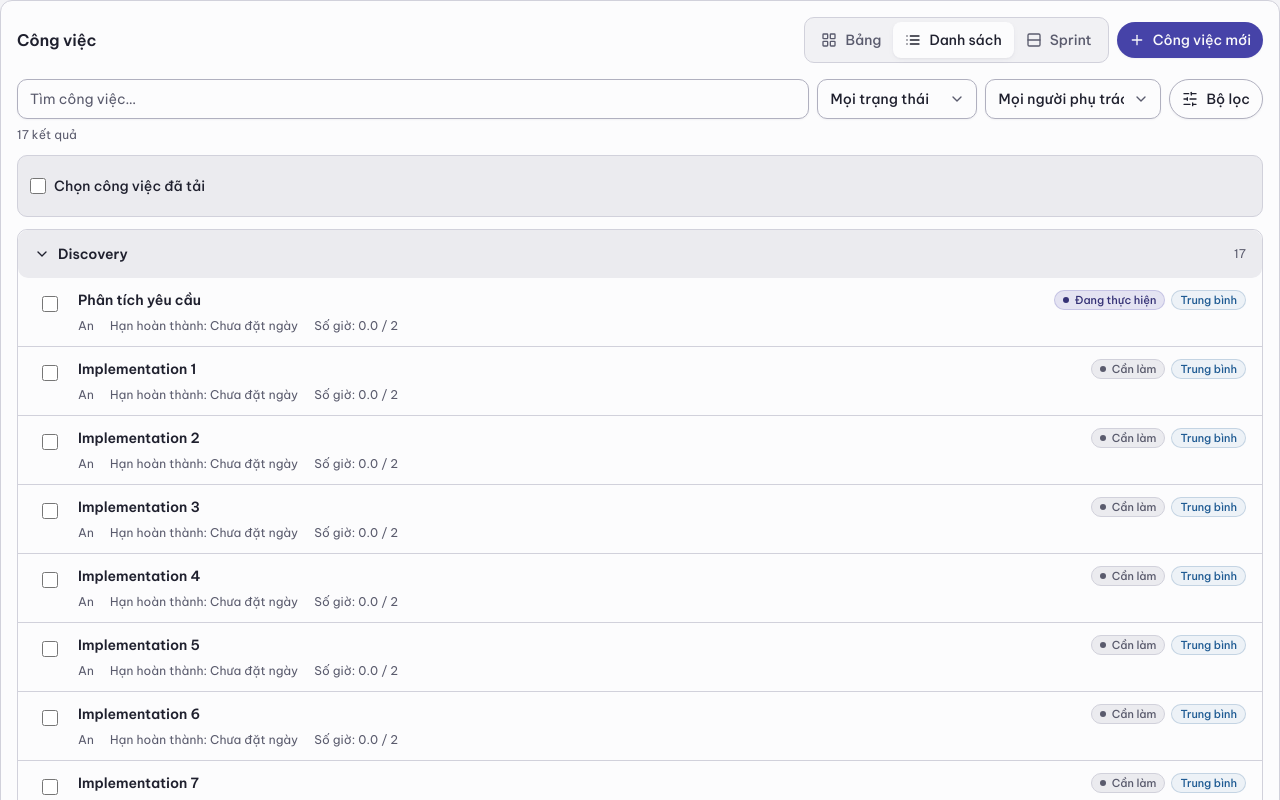
Scenario: task list interactions › opens localized detail with a fixed external save footer (vi)
Click the button "Phân tích yêu cầu".
click(139, 300)  # box [78, 290, 201, 310]
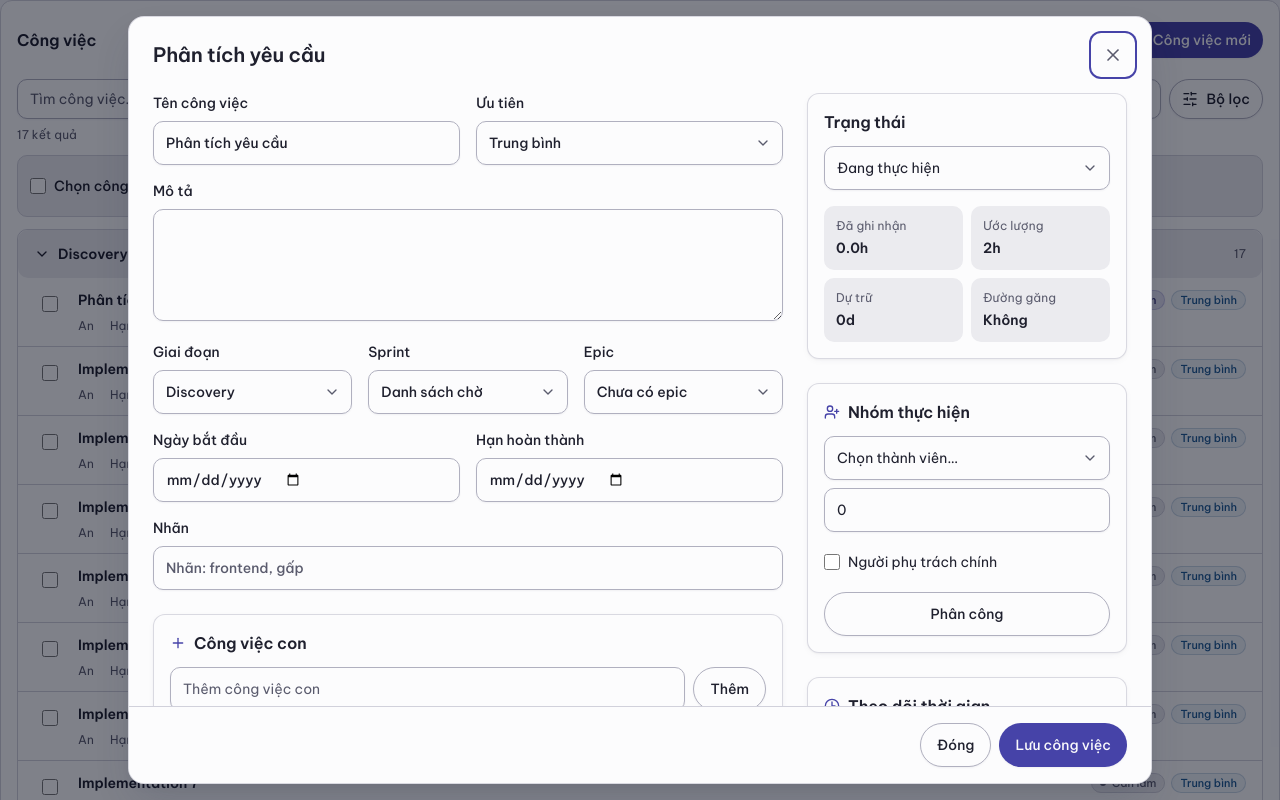
Click the button "Lưu công việc".
click(1063, 745)  # box [999, 723, 1127, 767]
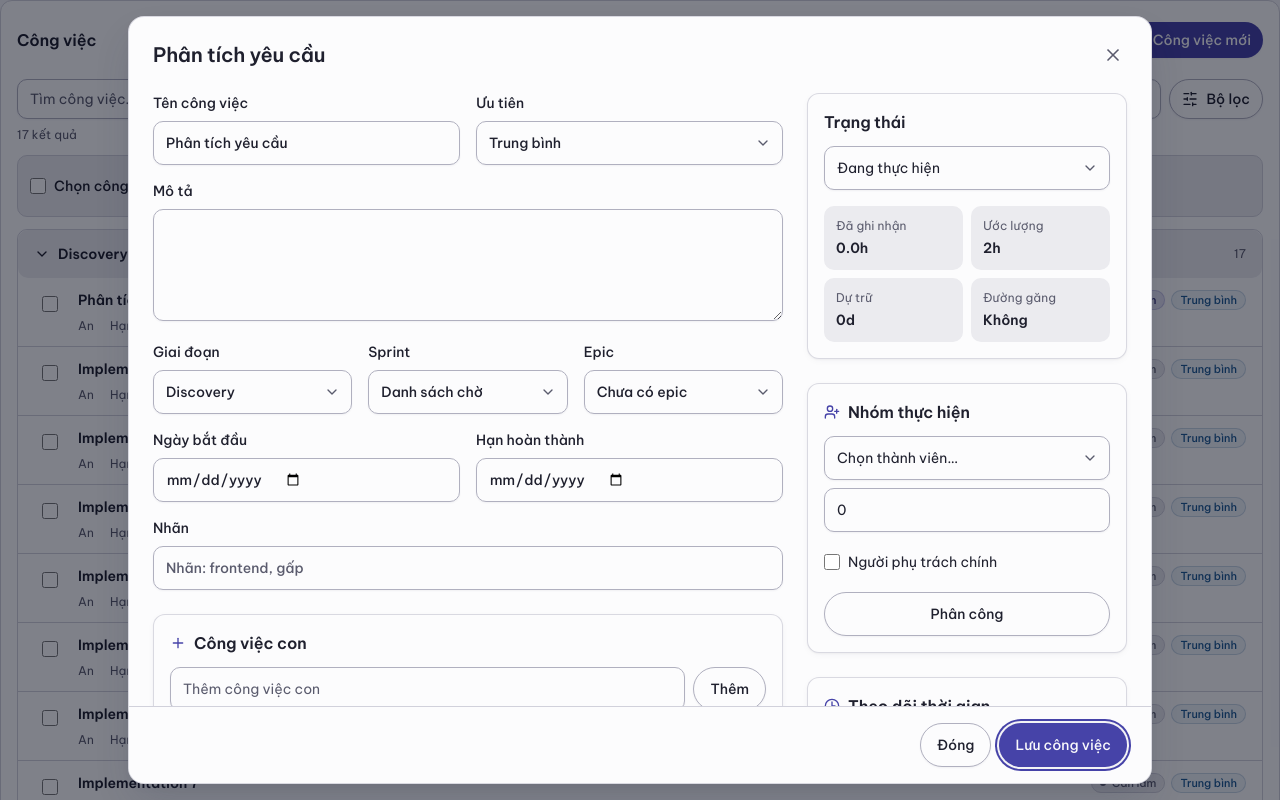
Press Escape
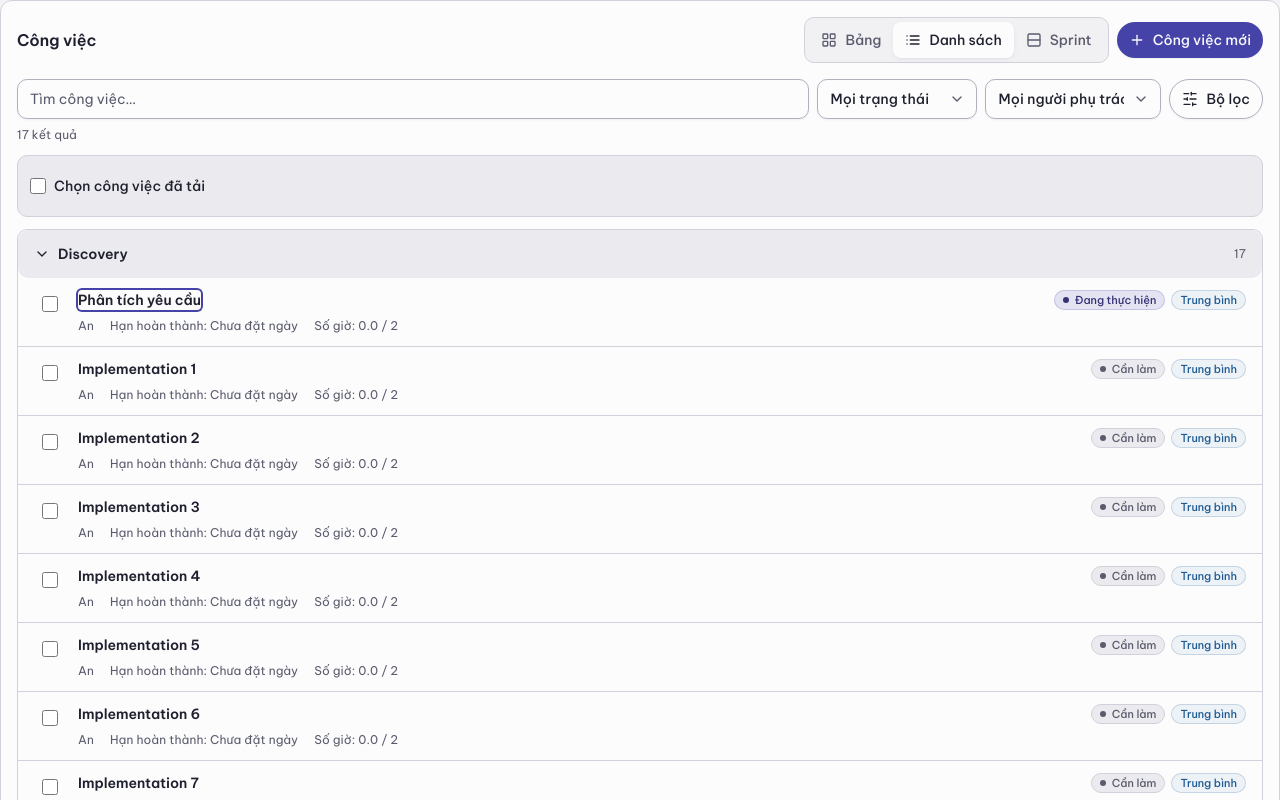
Check: the dialog is gone
